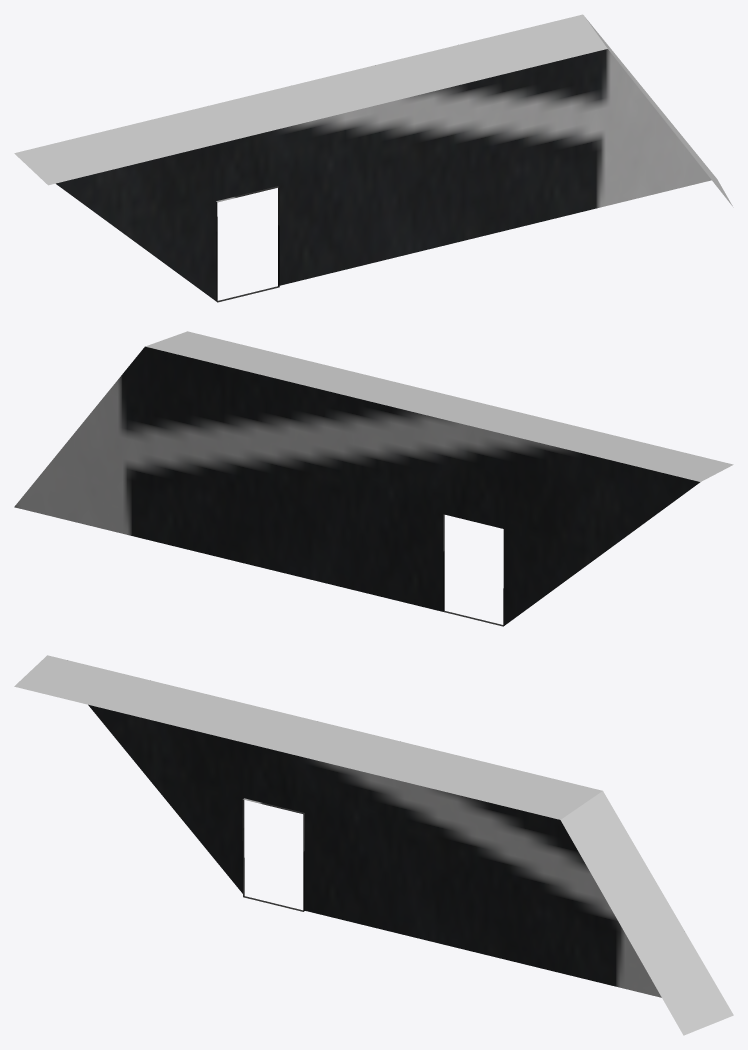
The model's file is cvfFRPontArriereBabord.fbx.
The picture shows the model from 3 angles, top to bottom: view 1: azimuth 30°, elevation 25°; view 2: azimuth 150°, elevation 25°; view 3: azimuth 330°, elevation 25°; orthographic projection. The views are drawn at different scales.
Visible parts, largest first — view 1: ShapeIndexedFaceSet, ShapeIndexedFaceSet_001; view 2: ShapeIndexedFaceSet, ShapeIndexedFaceSet_001; view 3: ShapeIndexedFaceSet, ShapeIndexedFaceSet_001.
Boxes of the visible parts, box(x1,y1,x2,y2) form: ShapeIndexedFaceSet: box(56, 49, 711, 302); ShapeIndexedFaceSet_001: box(14, 14, 733, 207); ShapeIndexedFaceSet: box(14, 346, 700, 626); ShapeIndexedFaceSet_001: box(145, 331, 733, 481); ShapeIndexedFaceSet: box(88, 704, 661, 997); ShapeIndexedFaceSet_001: box(14, 655, 733, 1035).
Bounding box in the file's own units: 39.2 × 10.51 × 3.3.
